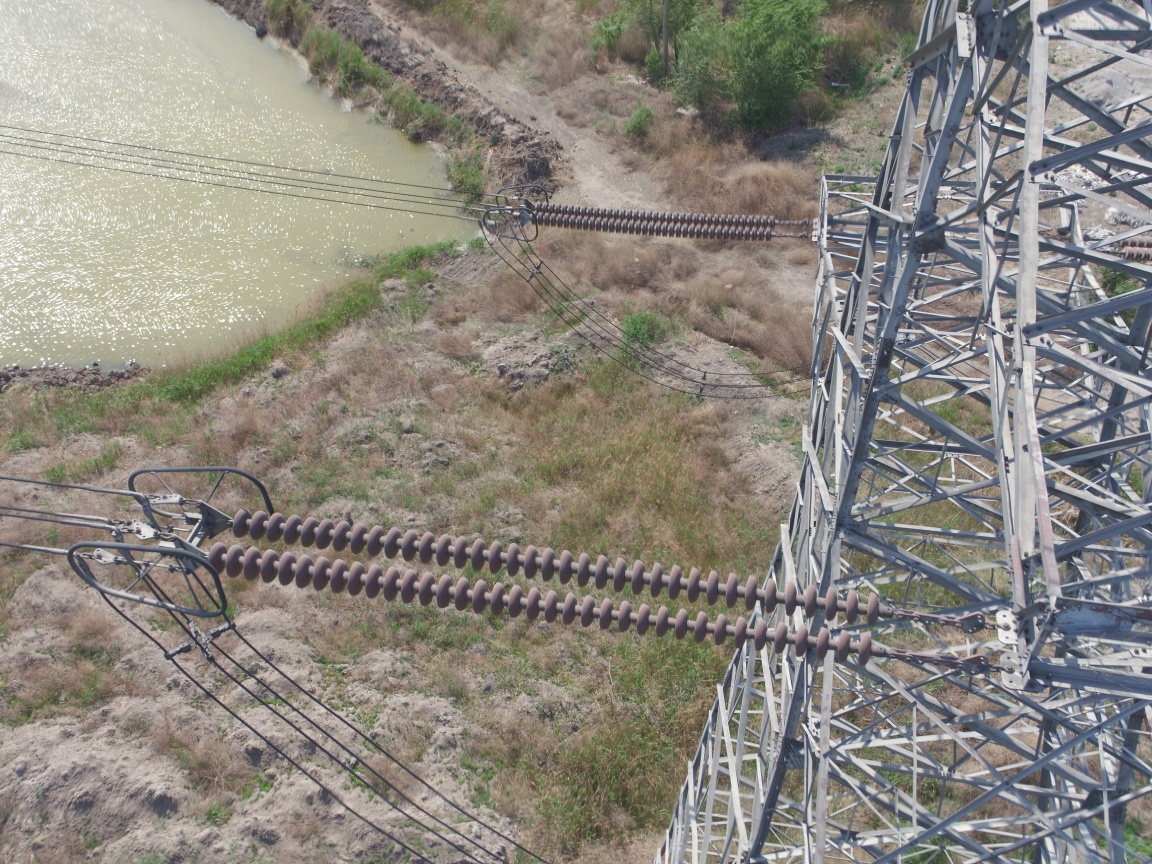insulator: (198, 504, 926, 668), (527, 197, 790, 243)
